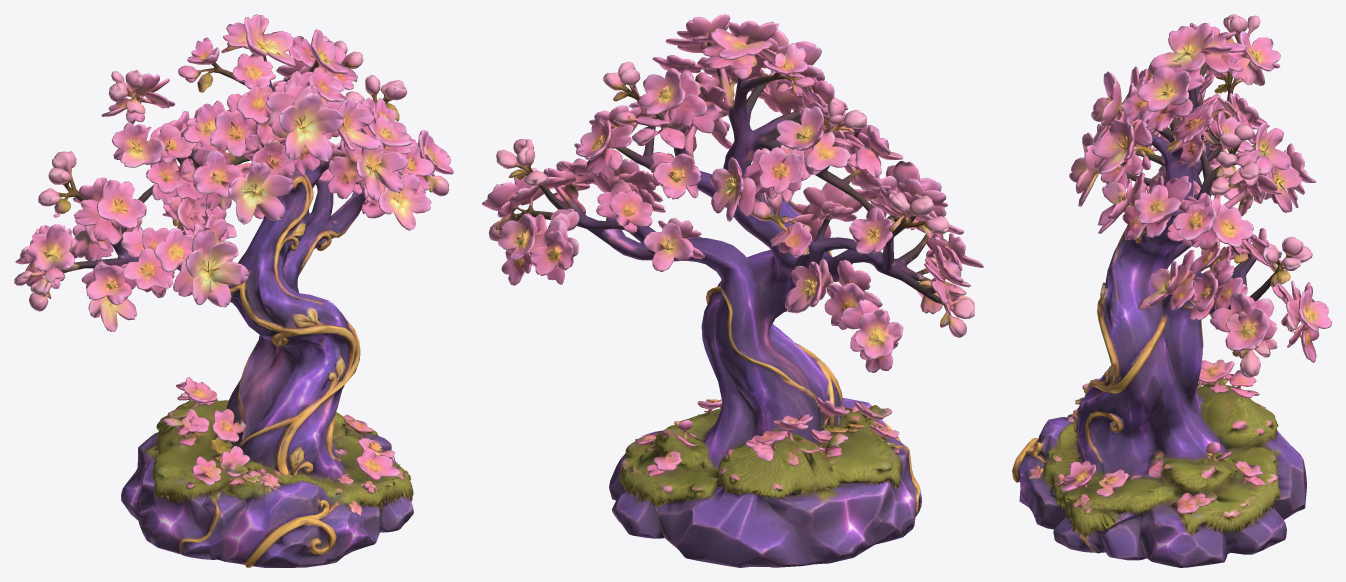
The model's file is blossom-tree.high.glb.
3 renders of one model, left to right at view 1: azimuth 30°, elevation 25°; view 2: azimuth 150°, elevation 25°; view 3: azimuth 270°, elevation 25°, orthographic. The views are drawn at different scales.
Parts seen in each view (by area): view 1: tripo_node_fba2f8da-5170-48e9-ae1e-a088e1c435ea; view 2: tripo_node_fba2f8da-5170-48e9-ae1e-a088e1c435ea; view 3: tripo_node_fba2f8da-5170-48e9-ae1e-a088e1c435ea.
Boxes of the visible parts, x1,y1,x2,y2 form: tripo_node_fba2f8da-5170-48e9-ae1e-a088e1c435ea: (14, 14, 453, 567); tripo_node_fba2f8da-5170-48e9-ae1e-a088e1c435ea: (482, 14, 983, 567); tripo_node_fba2f8da-5170-48e9-ae1e-a088e1c435ea: (1012, 14, 1331, 567).
Size of the model in its own units: 7.29 by 7.4 by 4.47.
1 material, 1 textured.
